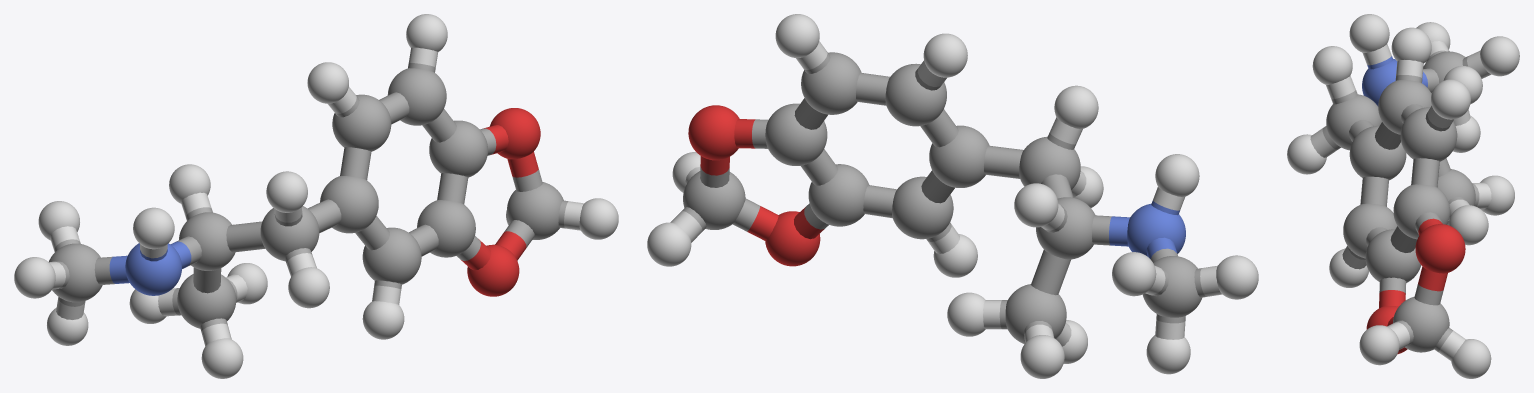
Rendered from MDMA-bas-color-print.glb.
3 views of the same model, side by side, from view 1: azimuth 30°, elevation 25°; view 2: azimuth 150°, elevation 25°; view 3: azimuth 270°, elevation 25° (orthographic). The views are drawn at different scales.
Parts seen in each view (by area): view 1: atoms, bonds; view 2: atoms, bonds; view 3: atoms, bonds.
Boxes of the visible parts, left/top/right/bottom form: atoms: left=14, top=14, right=618, bottom=378; bonds: left=49, top=47, right=583, bottom=345; atoms: left=647, top=14, right=1258, bottom=378; bonds: left=670, top=41, right=1222, bottom=346; atoms: left=1287, top=14, right=1519, bottom=378; bonds: left=1310, top=41, right=1491, bottom=360.
Size of the model in its own units: 11.44 by 5.49 by 4.18.
